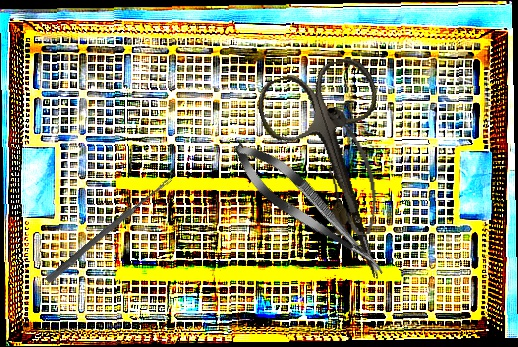Cannula: (319, 103, 381, 239)
Iris Scissors: (251, 52, 430, 296)
Micro Scissor: (223, 131, 396, 289)
Surgical Spoon: (45, 175, 173, 285)
